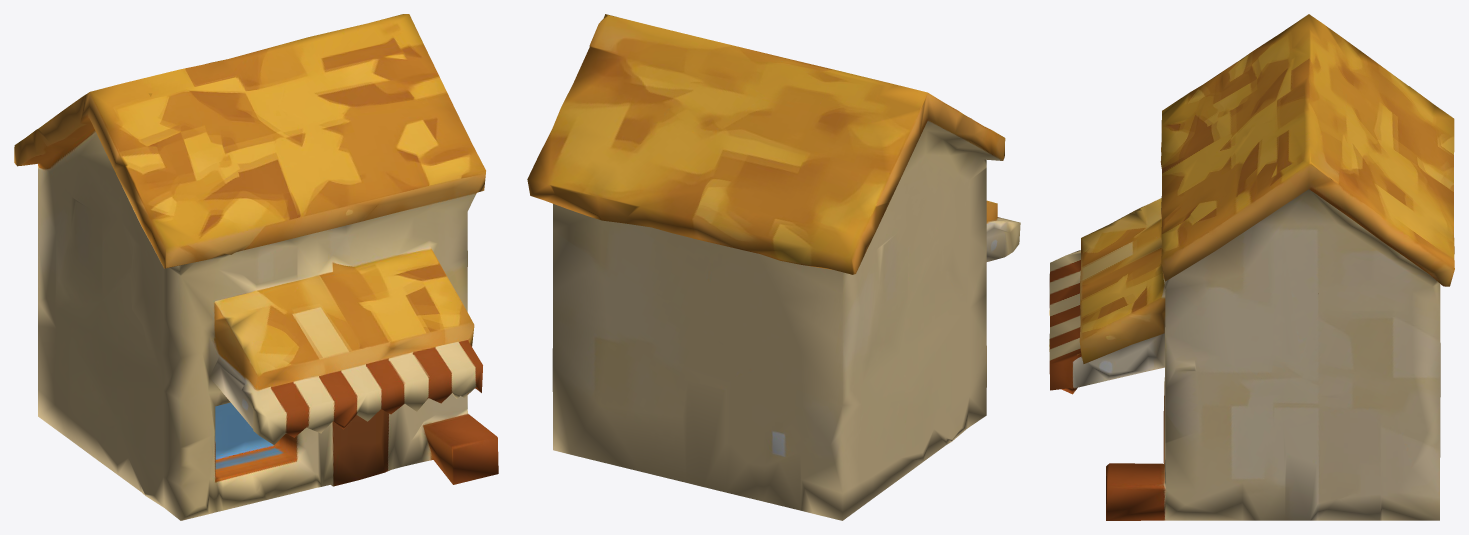
Rendered from bakery building 3d model.glb.
3 views of the same model, side by side, from view 1: azimuth 30°, elevation 25°; view 2: azimuth 150°, elevation 25°; view 3: azimuth 270°, elevation 25° (orthographic). The views are drawn at different scales.
Visible parts, largest first — view 1: tripo_node_72871d58-19f1-4c60-9e3e-cb8f38836ceb; view 2: tripo_node_72871d58-19f1-4c60-9e3e-cb8f38836ceb; view 3: tripo_node_72871d58-19f1-4c60-9e3e-cb8f38836ceb.
Part boxes in pixels (box(x1,y1,x2,y2)): tripo_node_72871d58-19f1-4c60-9e3e-cb8f38836ceb: box(14, 14, 498, 520); tripo_node_72871d58-19f1-4c60-9e3e-cb8f38836ceb: box(527, 14, 1020, 520); tripo_node_72871d58-19f1-4c60-9e3e-cb8f38836ceb: box(1049, 14, 1454, 520).
Size of the model in its own units: 0.8664 by 0.9763 by 0.9795.
1 material, 1 textured.
